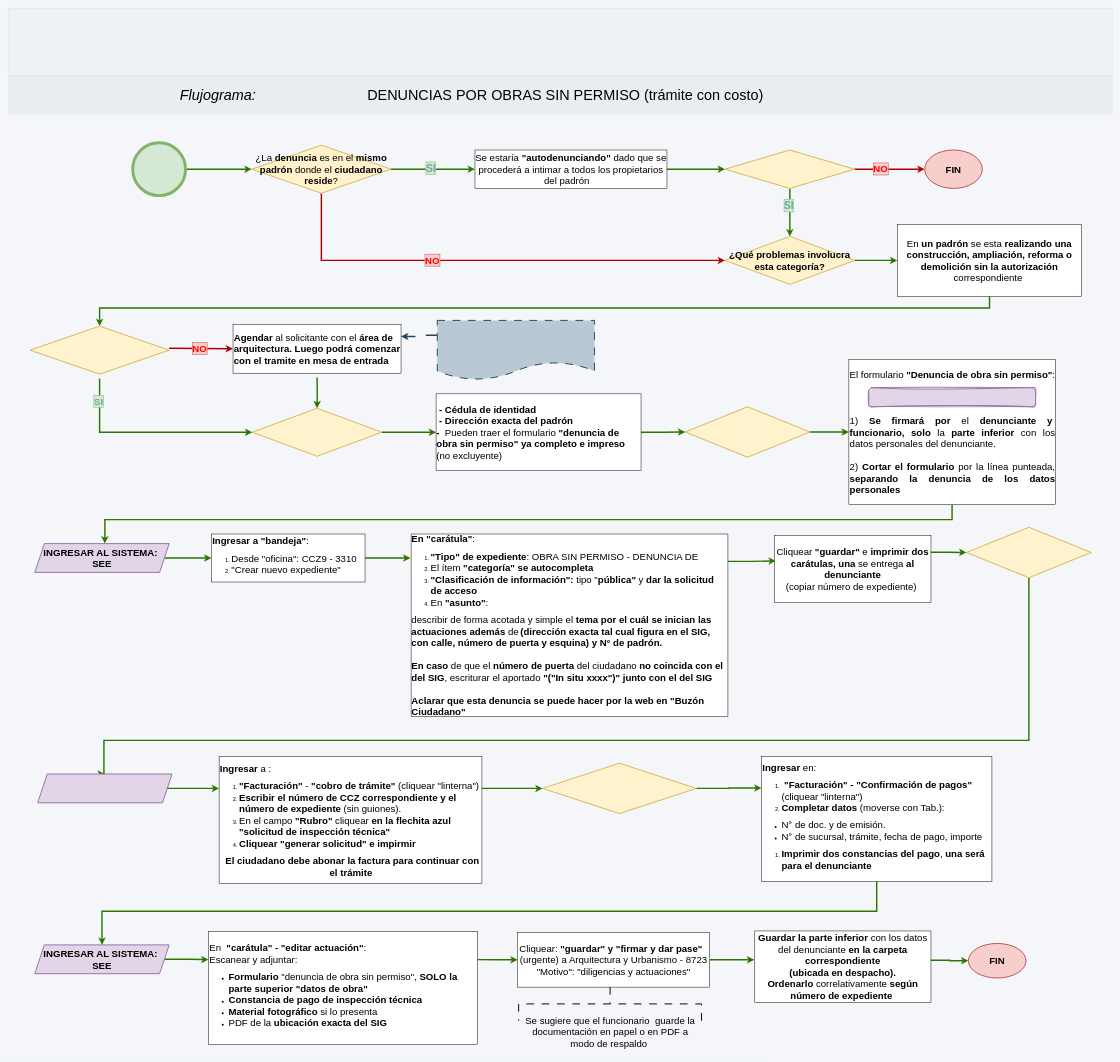
The diagram is 1120 pixels wide and 1062 high, and some of its shapes have lost their labels. The centre of each missing label's shape, as x and y in pixels:
"FORMULARIO OBRA SIN PERMISO" belongs at (x=952, y=397).
"INGRESAR AL SISTEMA: GIC" belongs at (x=104, y=788).
"INICIO" belongs at (x=159, y=169).
"Ya con el denunciante en el CCZ ¿Cómo confirmamos el pago de la factura?" belongs at (x=619, y=788).
"¿Cómo realizamos el cobro del trámite?" belongs at (x=1029, y=552).
"¿Cómo sacar fecha y hora para un área en especial? (ver procedimiento)" belongs at (x=516, y=350).
"¿El denunciante ya fue asesorado con el área de arquitectura?" belongs at (x=99, y=349).
"¿El solicitante quiere continuar con el inicio del expediente ?" belongs at (x=789, y=169).
"¿Qué datos se requiere que complete el ciudadano ?" belongs at (x=747, y=431).
"¿Qué documentación debe presentar el ciudadano?" belongs at (x=317, y=432).
